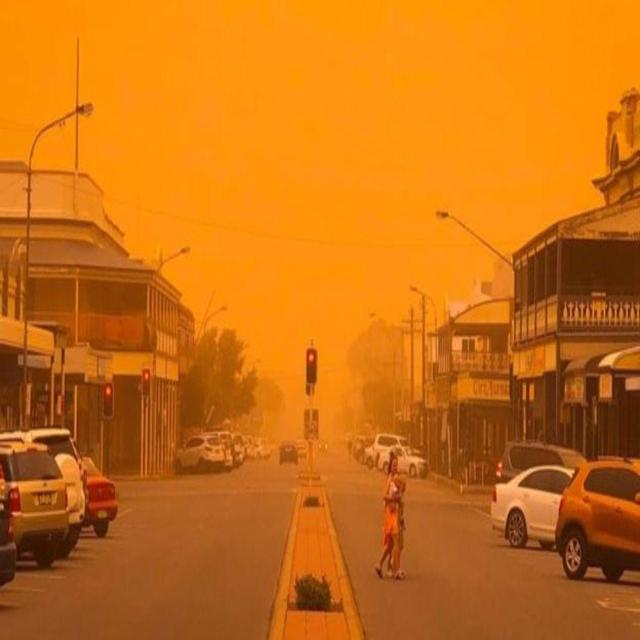Car: (0, 424, 86, 556), (554, 452, 640, 578), (0, 437, 68, 566), (492, 464, 574, 547), (497, 436, 589, 492), (79, 453, 118, 539), (176, 435, 225, 475), (378, 442, 428, 479), (0, 507, 18, 589), (372, 432, 411, 459), (278, 438, 299, 466), (255, 442, 272, 460), (365, 442, 375, 468), (294, 439, 307, 458), (318, 439, 328, 454)
